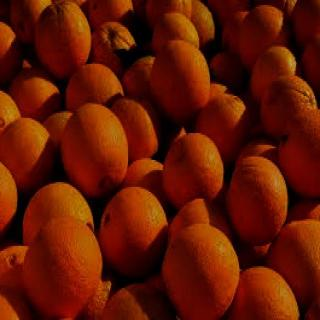orange: (161, 220, 237, 320), (33, 216, 106, 320), (162, 123, 234, 228), (62, 100, 136, 200), (144, 33, 221, 127)
